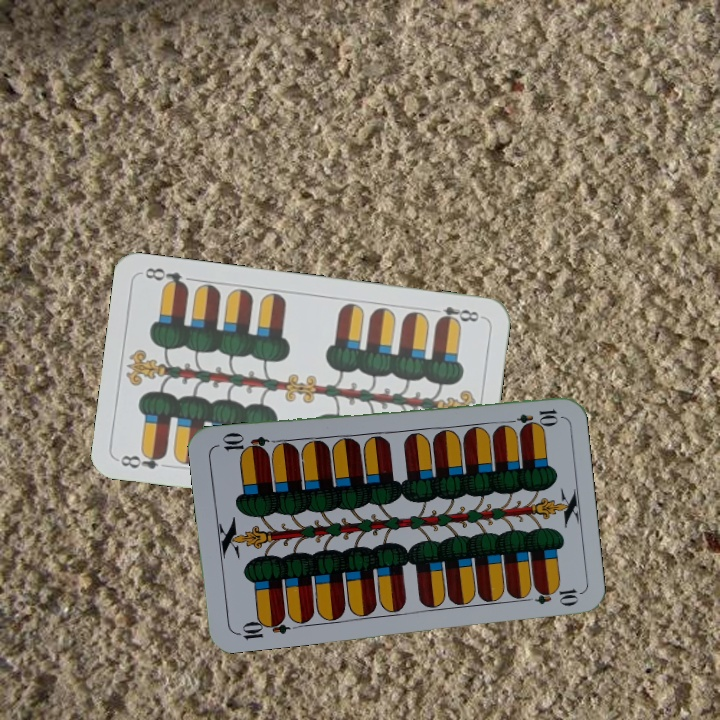E10: (232, 612, 292, 642), (501, 405, 561, 428)
E8: (426, 302, 485, 327), (116, 447, 169, 472)
